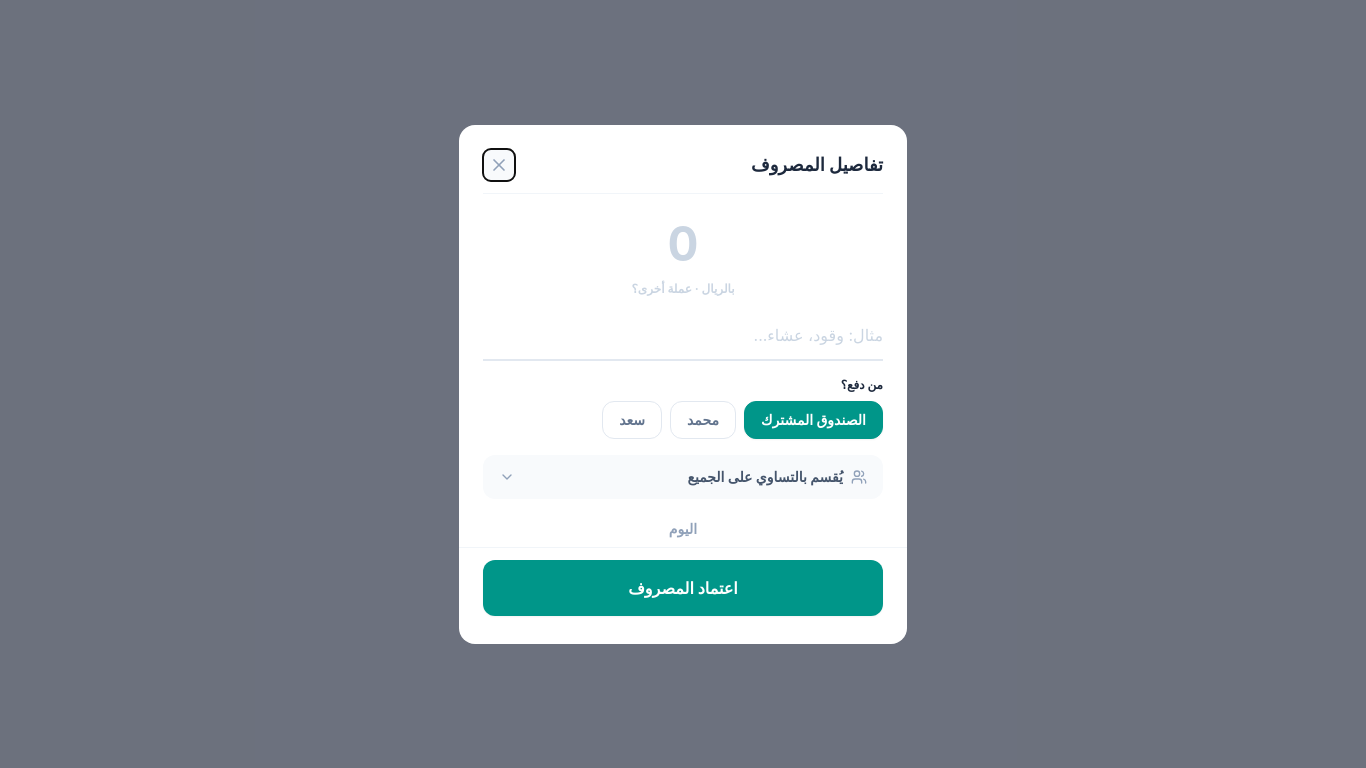
it: ExpenseForm — الخيارات المتقدمة لا تظهر إلا عند الحاجة › الفئة لا تظهر قبل الوصف، ثم تظهر مشتقّة منه
In the field named "الوصف": {"x": 683, "y": 334} [483,316,883,352], type "عشاء"
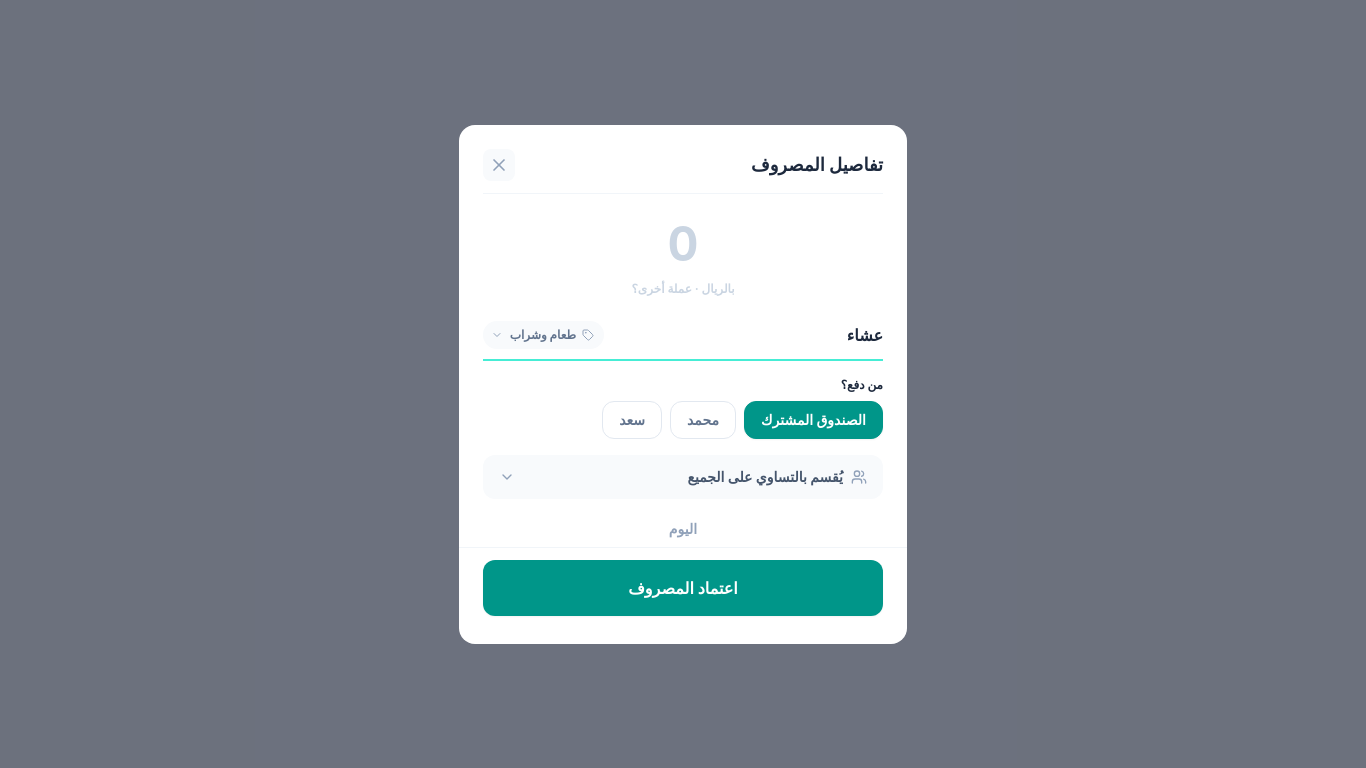
Check: the dropdown named "الفئة" shows "طعام وشراب", box [483,320,604,348]
